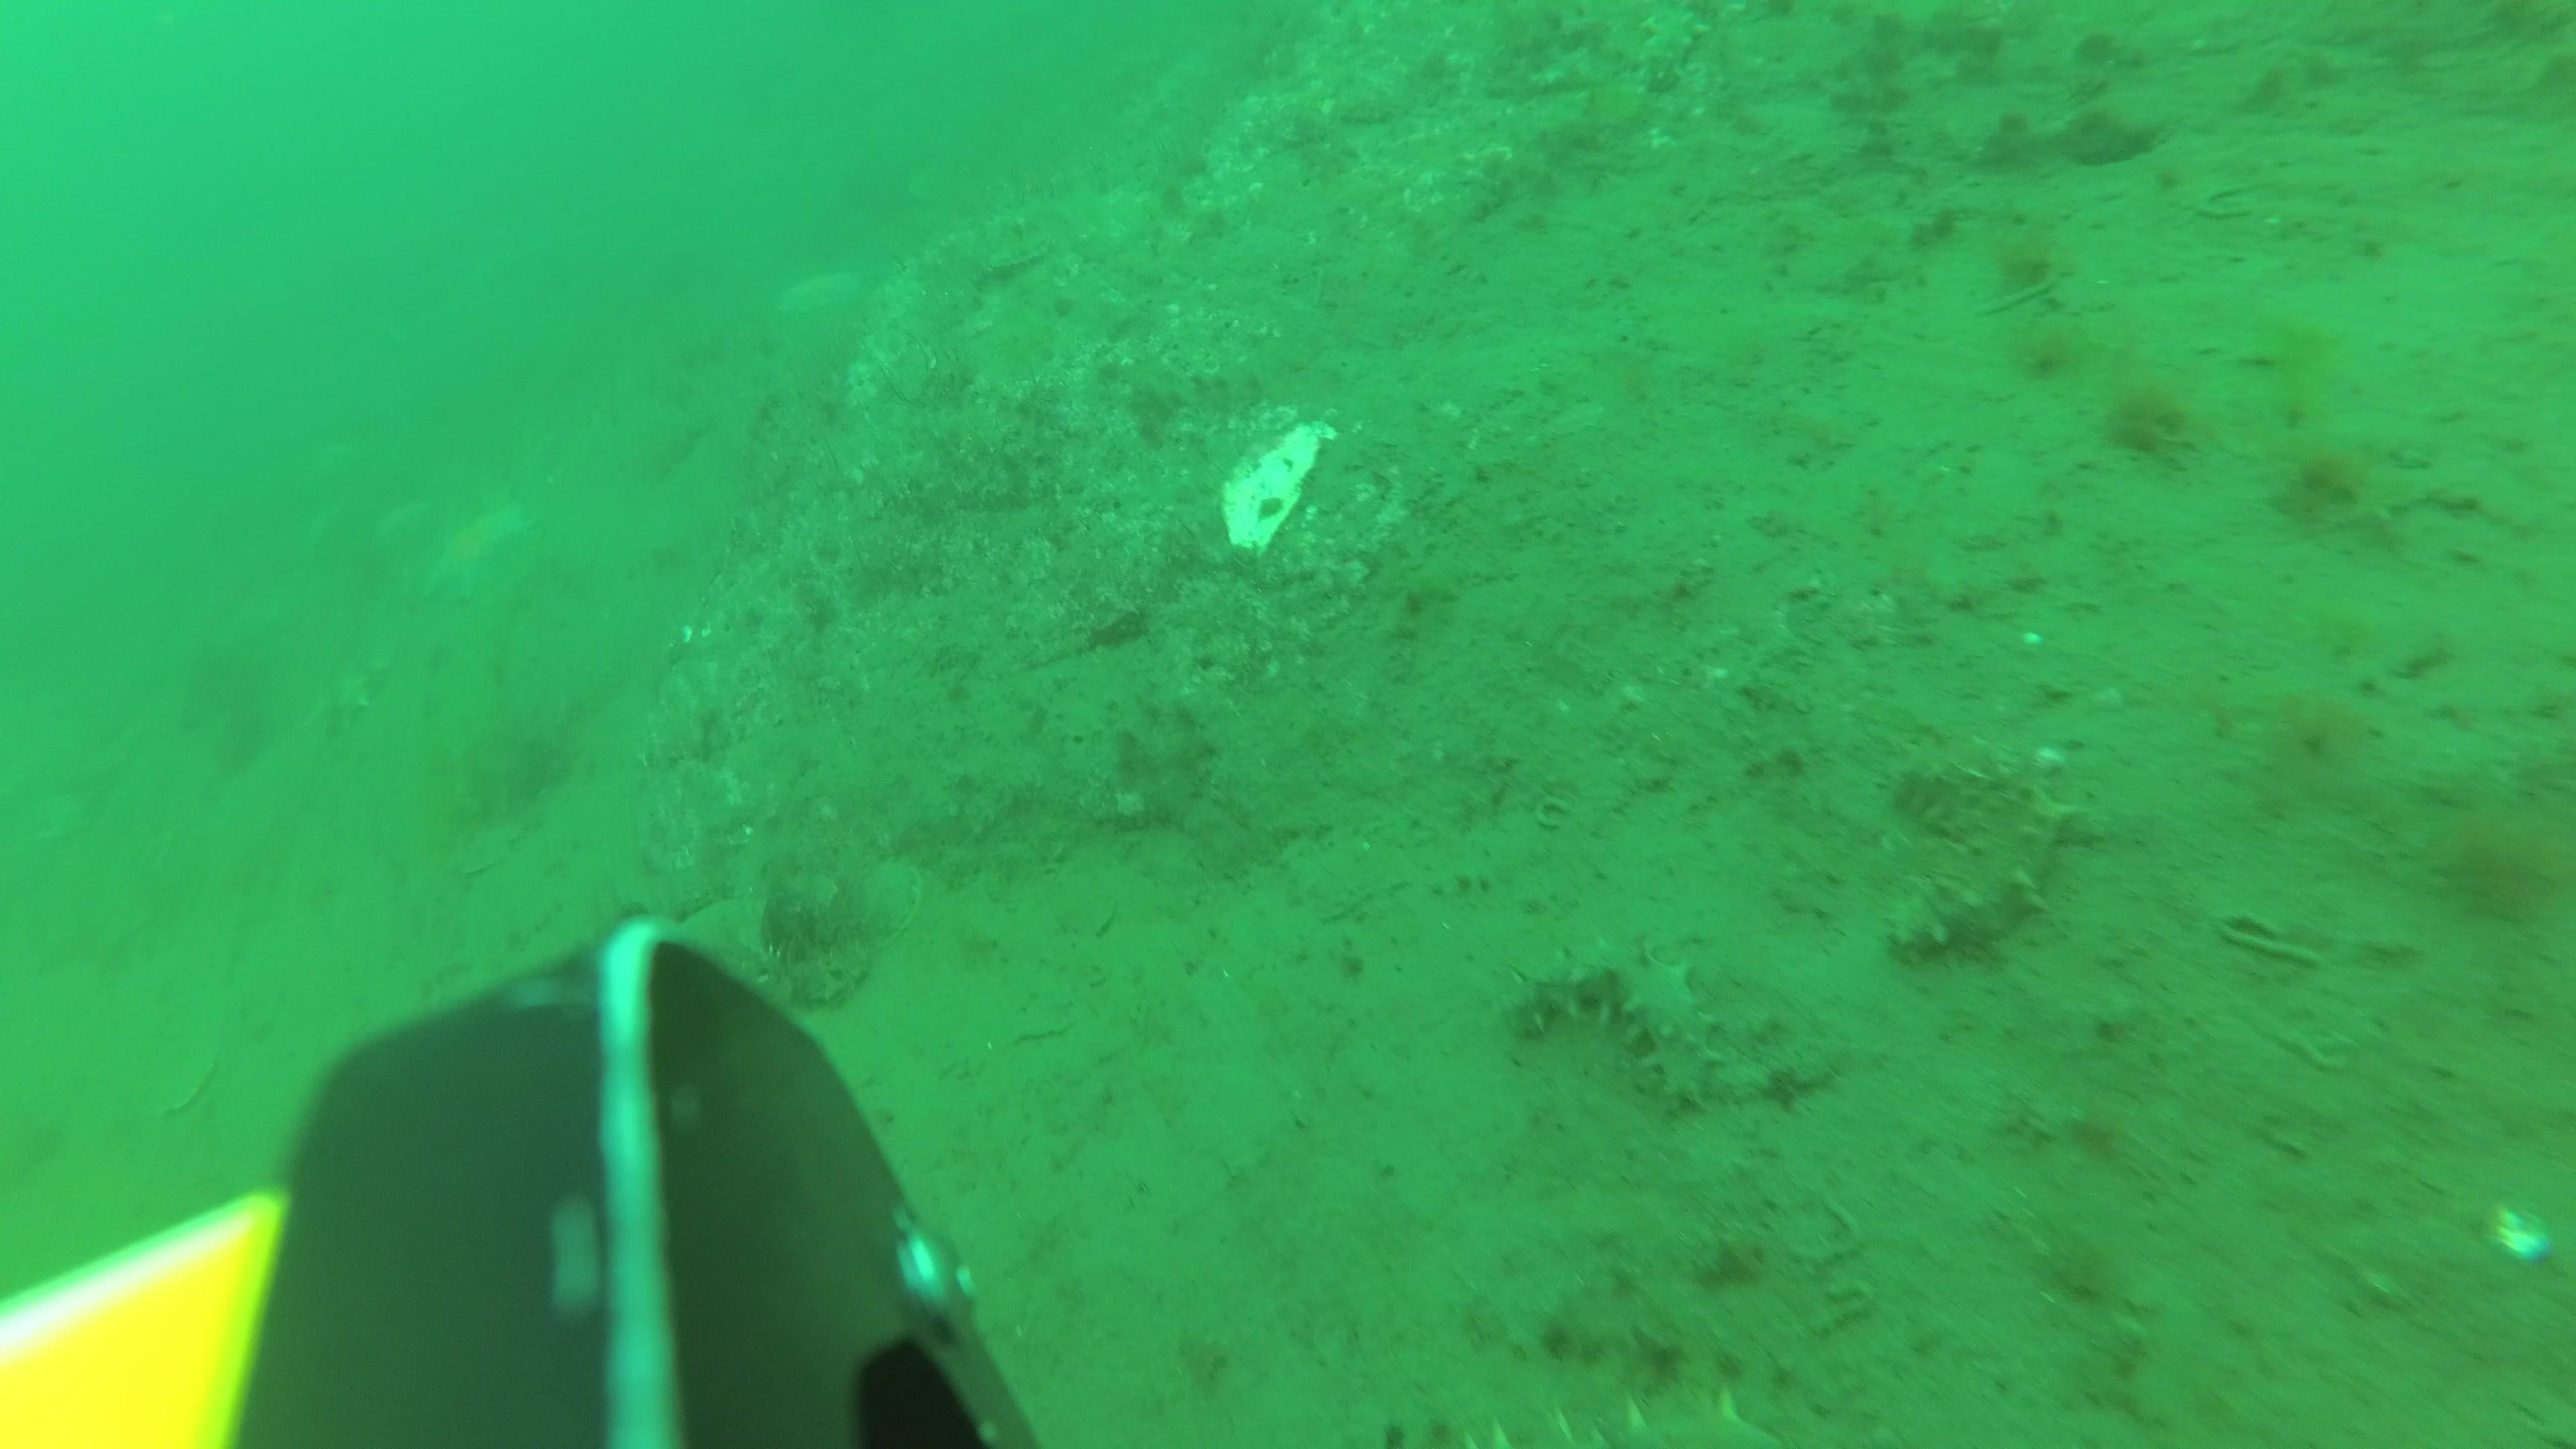holothurian: (1897, 759, 2089, 966), (1523, 934, 1716, 1104), (1454, 1391, 1794, 1449), (310, 649, 387, 750)
starfish: (419, 499, 531, 610), (782, 272, 881, 324)
